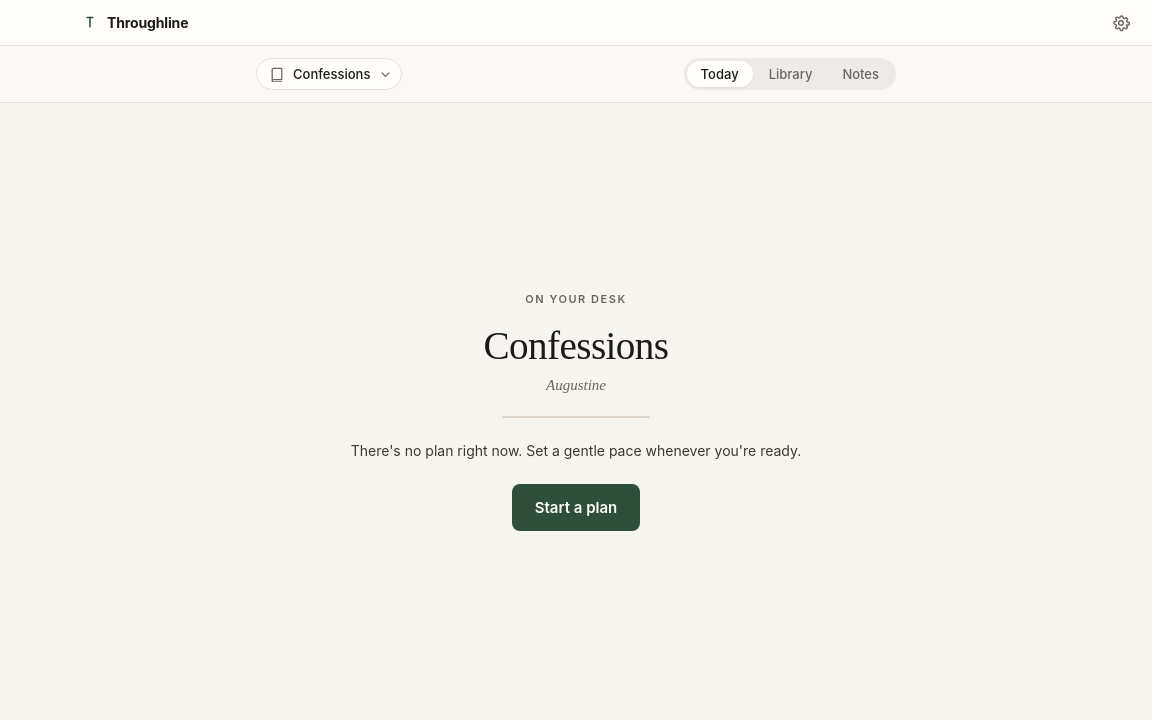
Test: App remove-from-library › Undo within the window keeps the book and never deletes
Click the button "Confessions".
click(329, 74)  # box x1=256 y1=58 x2=402 y2=90
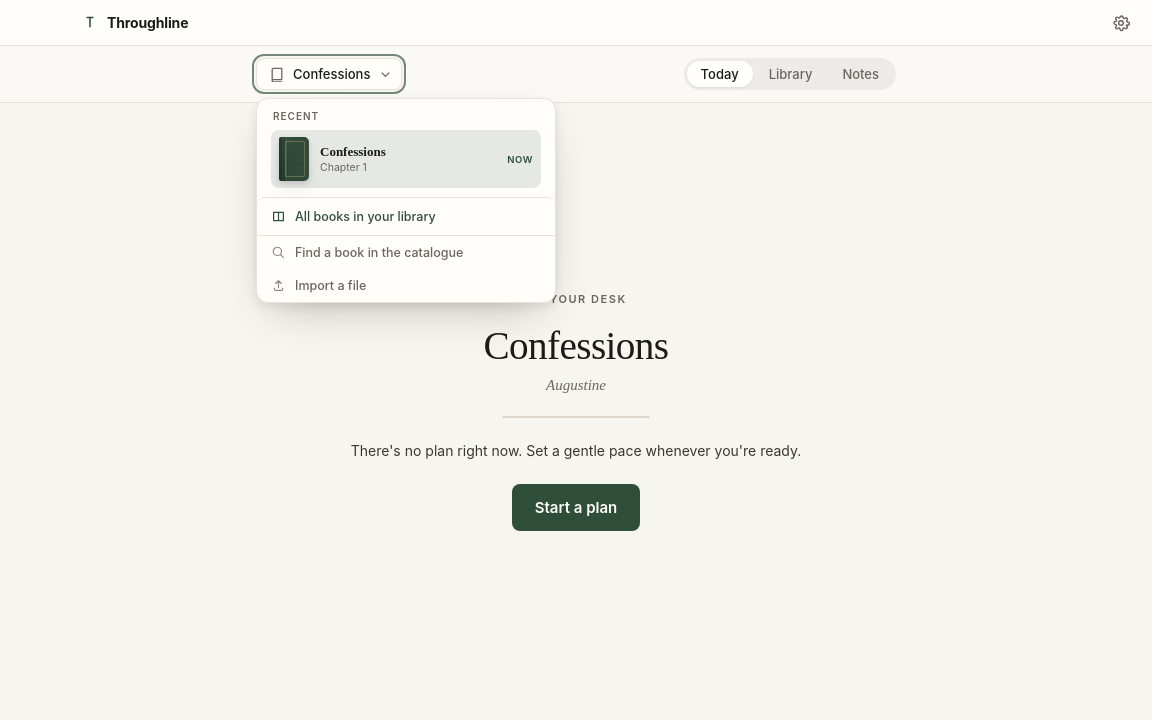
Right-click the button with aria-label "Confessions, Augustine, reading".
right_click(353, 152)  # box x1=271 y1=130 x2=541 y2=188
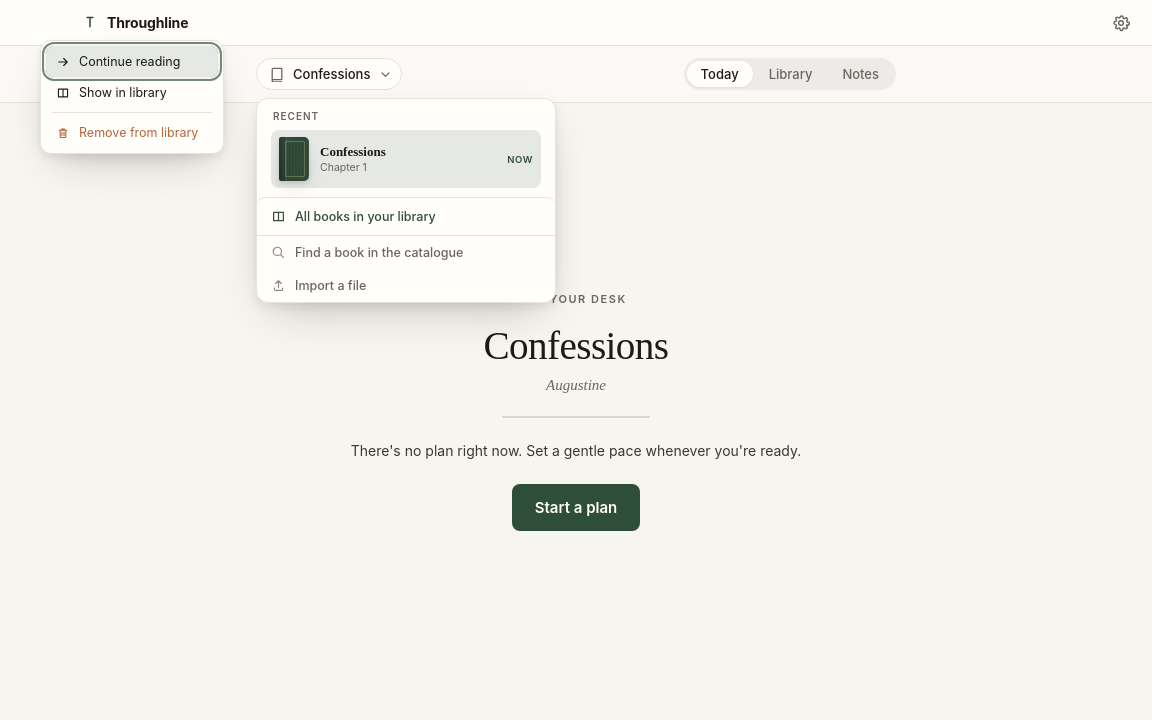
Click the menu item "Remove from library".
click(132, 132)  # box x1=46 y1=117 x2=218 y2=148
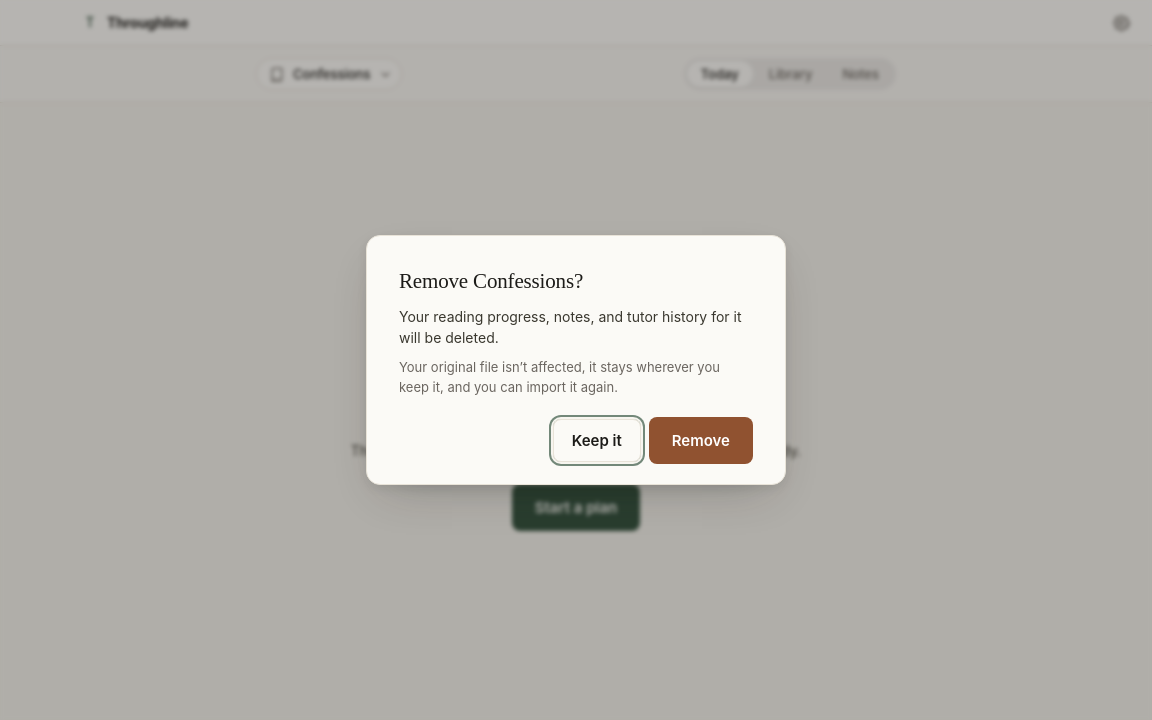
Click the button "Remove".
click(701, 441)  # box x1=649 y1=418 x2=753 y2=464
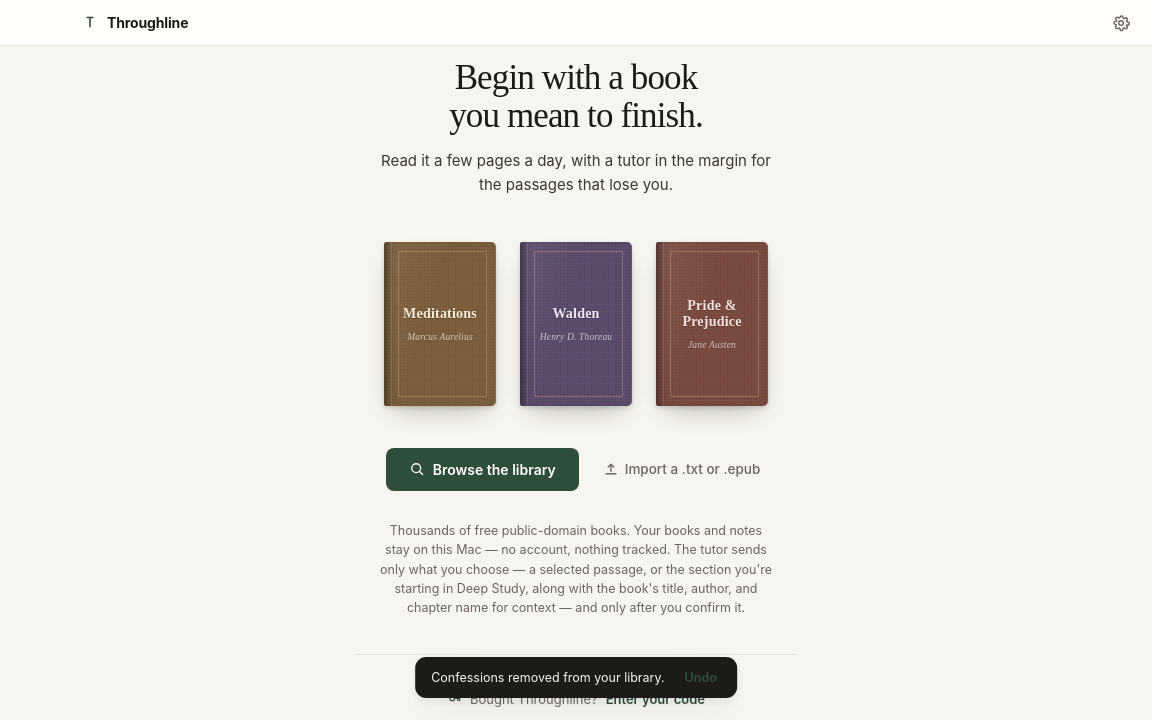
Click the button "Undo".
click(701, 678)  # box x1=681 y1=668 x2=721 y2=687
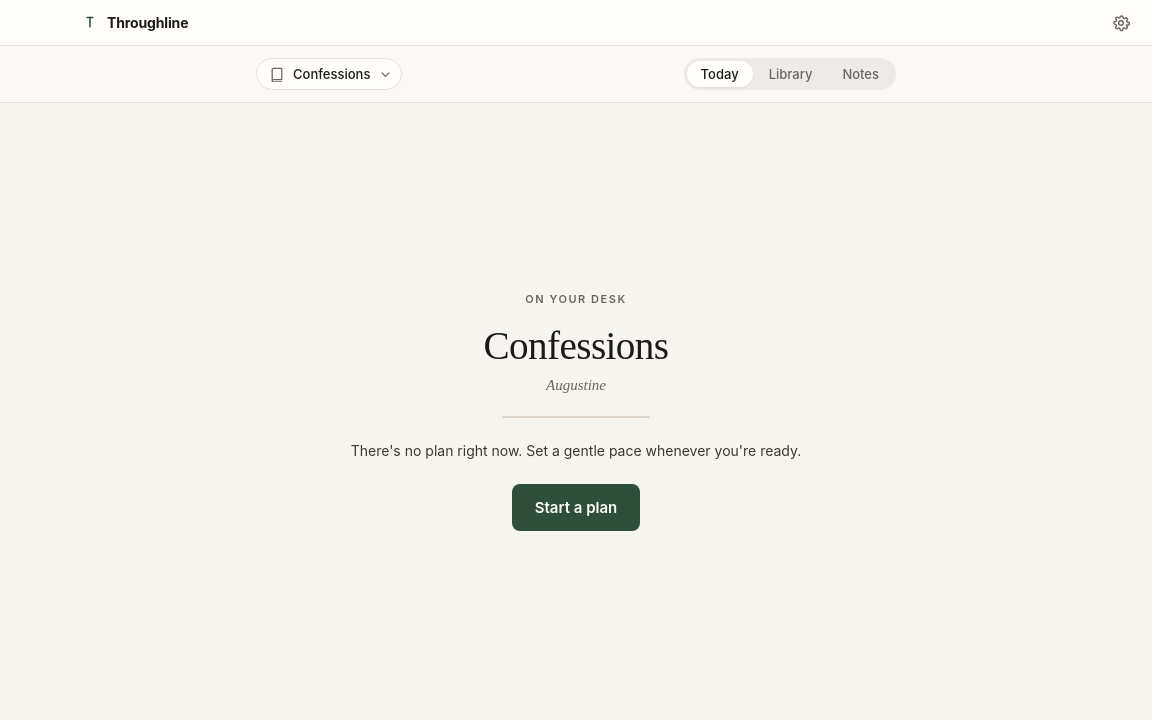
Now the text "Confessions removed from your library." is gone
